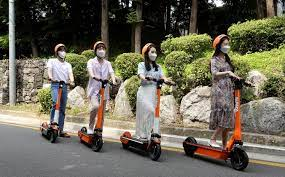kick_wheel: (230, 148, 248, 170), (150, 140, 161, 160), (184, 137, 196, 155), (121, 132, 131, 149), (92, 136, 102, 151)
